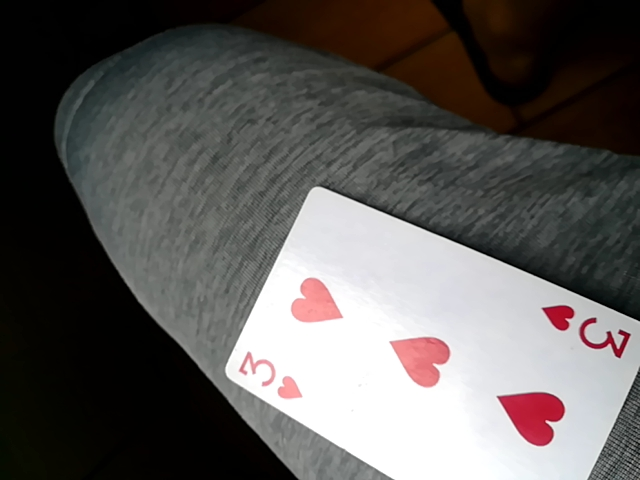hx 3: (212, 178, 639, 479)
